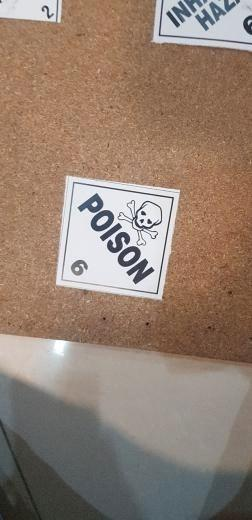poison: (53, 174, 180, 297), (151, 1, 252, 53)
